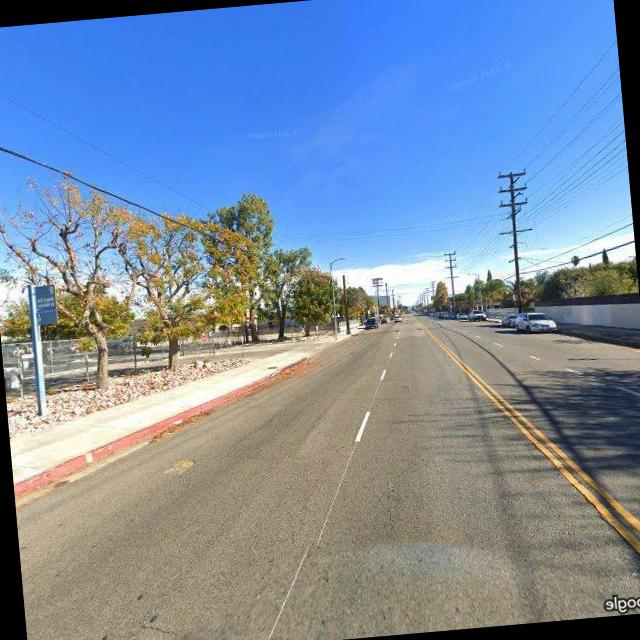pothole: (161, 451, 202, 477)
